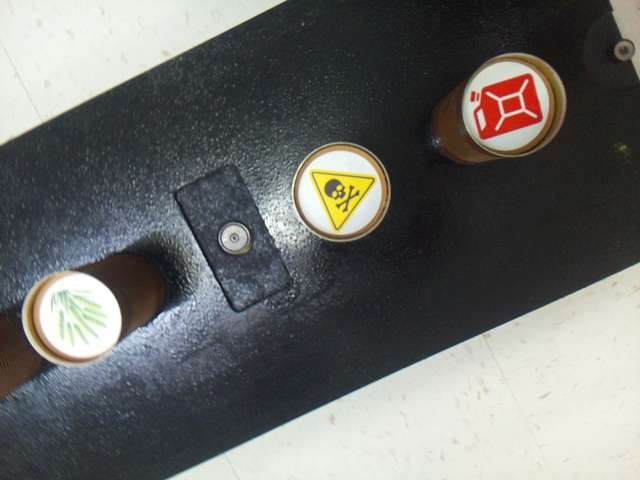gasoline: (466, 61, 549, 150)
toxic_fluid: (298, 150, 382, 234)
wheat_barrel: (45, 284, 120, 356)
